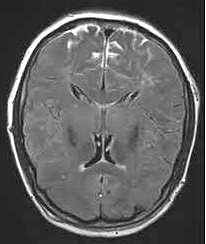Normal_Brain: (12, 7, 203, 244)
